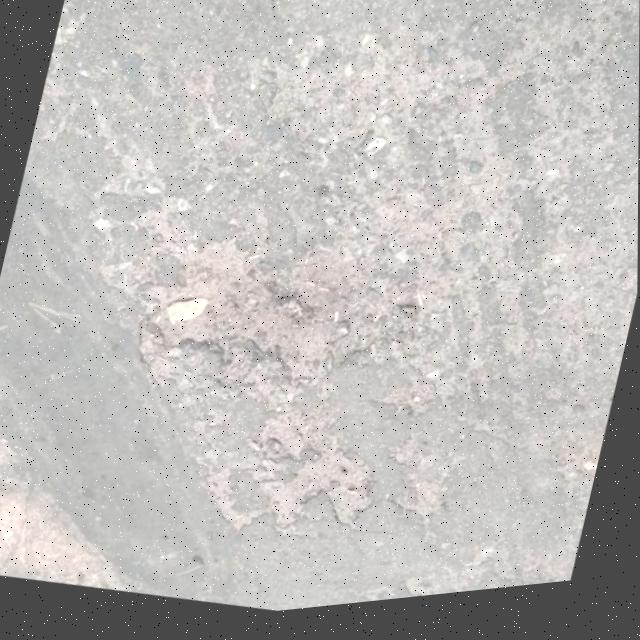Pothole: (118, 203, 411, 433), (200, 394, 393, 566)
